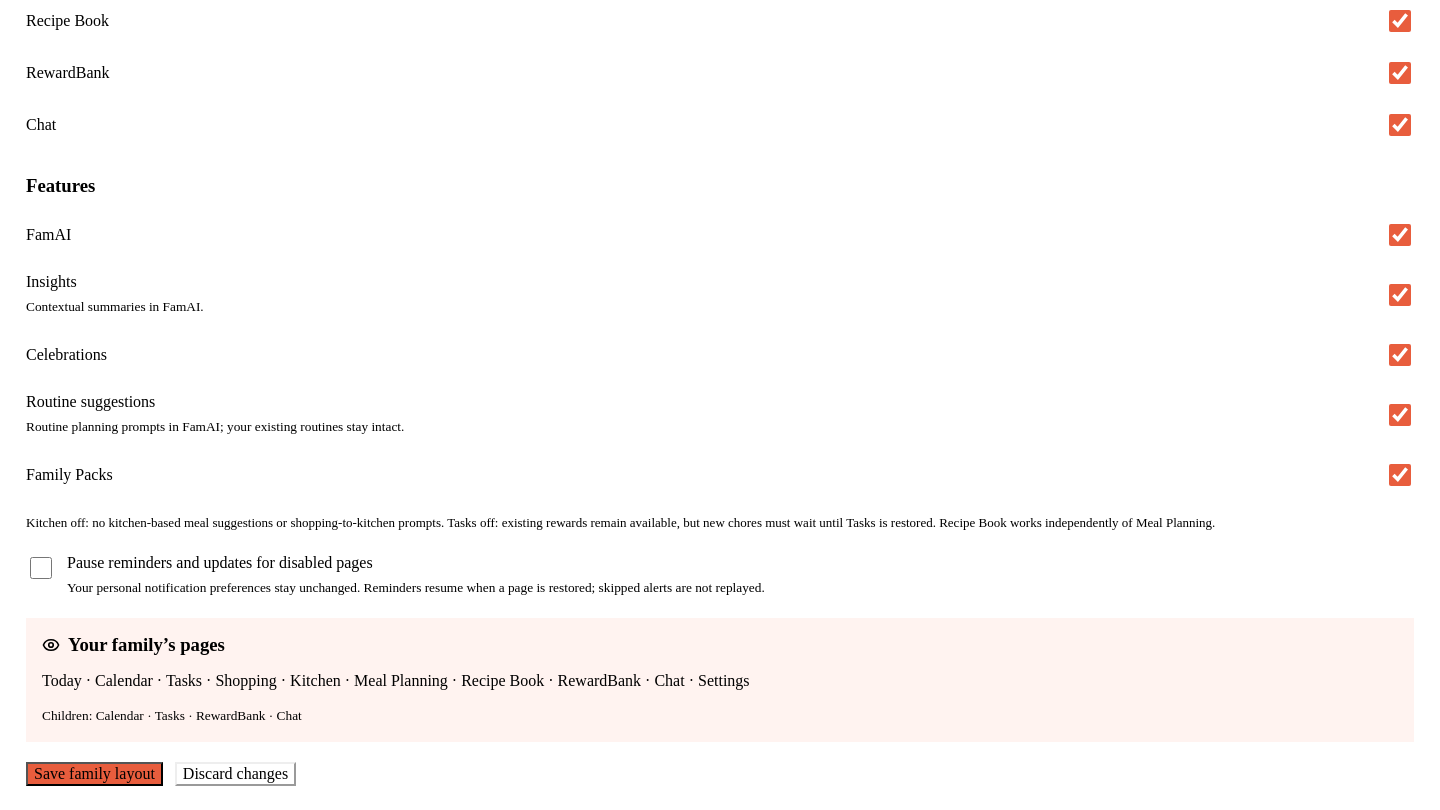
reports save errors without a success confirmation
(page scrolled)
Click the button "Save family layout" at (94,774), box left=26, top=762, right=163, bottom=786
(page scrolled)
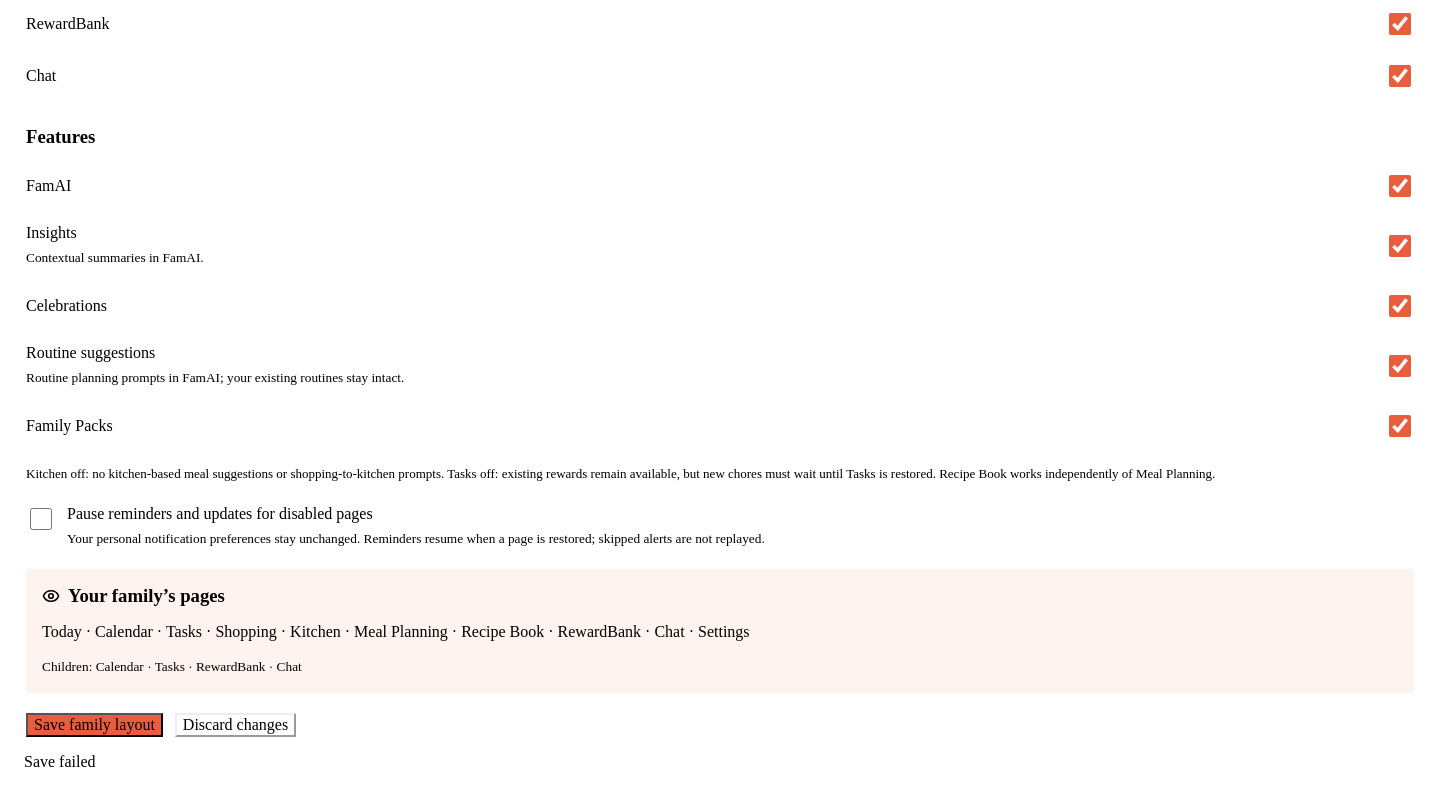
Check: the message reads "Save failed", box left=24, top=753, right=96, bottom=770
